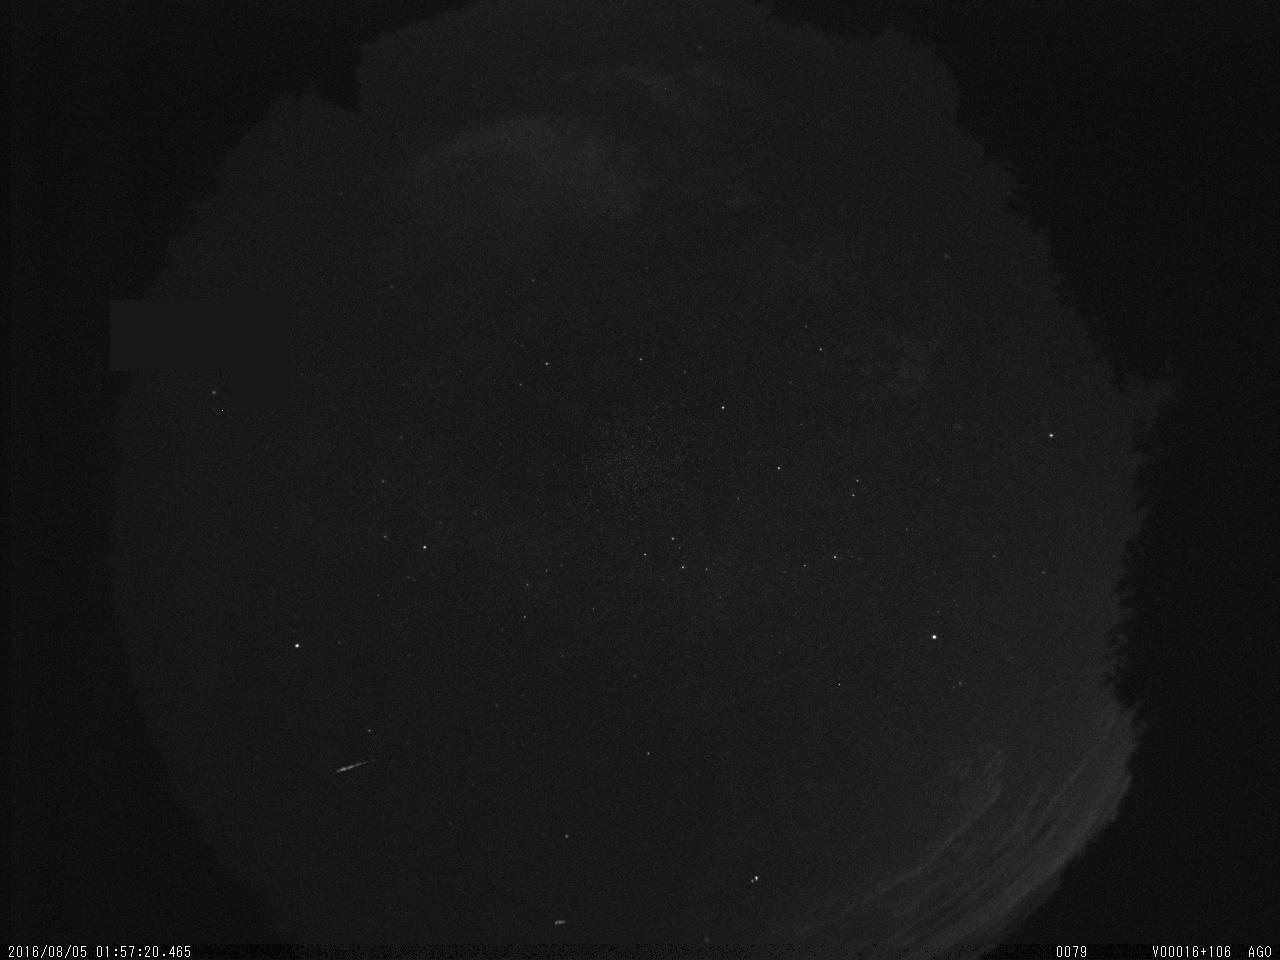meteor: (332, 752, 387, 778)
